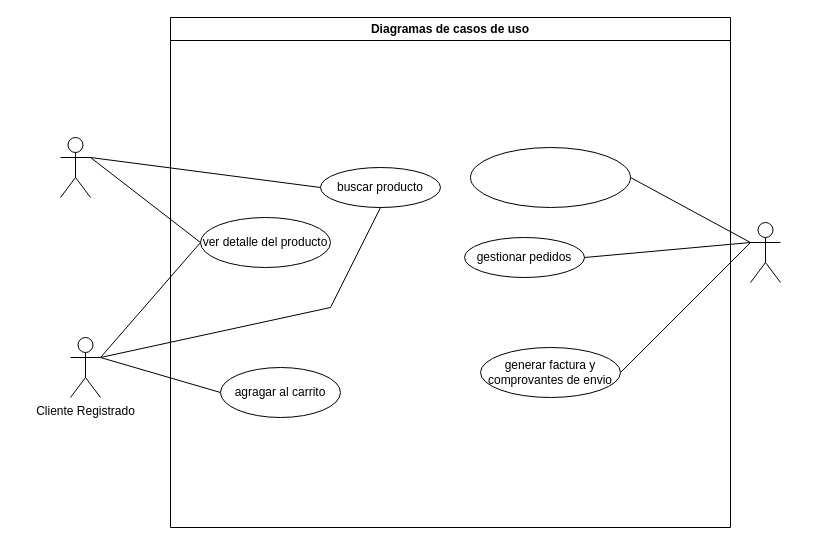
The diagram is 820 pixels wide and 545 high, and some of its shapes have lost their labels. The shapes that lost their labels are listed below. From the top down, each one's box as (x1, y1, x2, y2) in pixels, then its label:
(60, 136, 90, 198): Cliente No Registrado
(470, 146, 630, 208): gestionar catalogo de productos
(750, 222, 780, 282): Administrador
